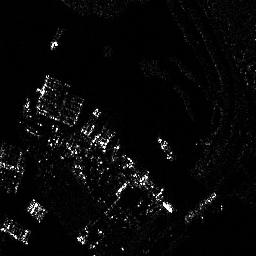ship: (182, 191, 218, 223)
